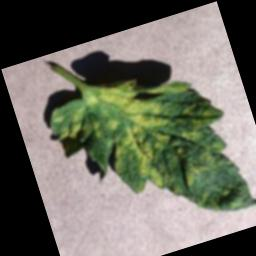Leaf_Mold: (40, 46, 256, 256)
